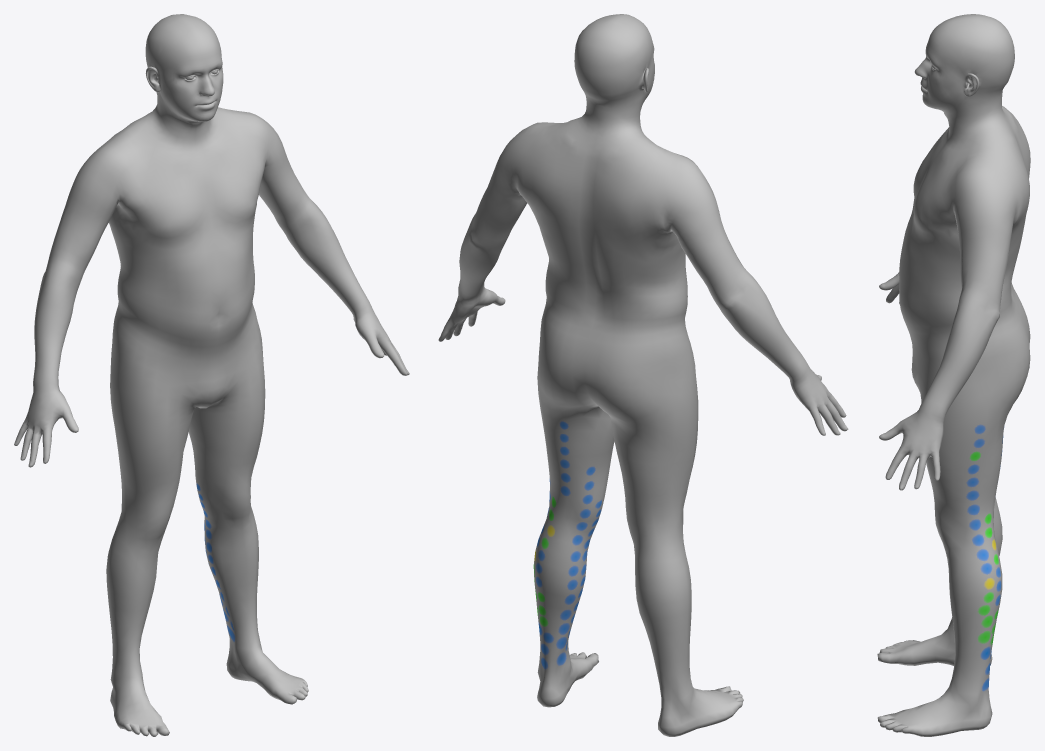
File: 1135025-bent-all.gltf
3 renders of one model, left to right at view 1: azimuth 30°, elevation 25°; view 2: azimuth 150°, elevation 25°; view 3: azimuth 270°, elevation 25°, orthographic. The views are drawn at different scales.
Parts seen in each view (by area): view 1: Male 68in 180lbs-A-pose; view 2: Male 68in 180lbs-A-pose; view 3: Male 68in 180lbs-A-pose.
Part boxes in pixels (x1,y1,x2,y2): Male 68in 180lbs-A-pose: (14, 14, 409, 736); Male 68in 180lbs-A-pose: (438, 14, 848, 736); Male 68in 180lbs-A-pose: (877, 14, 1030, 736).
Size of the model in its own units: 3.06 by 5.17 by 1.05.
1 material, 1 textured.
